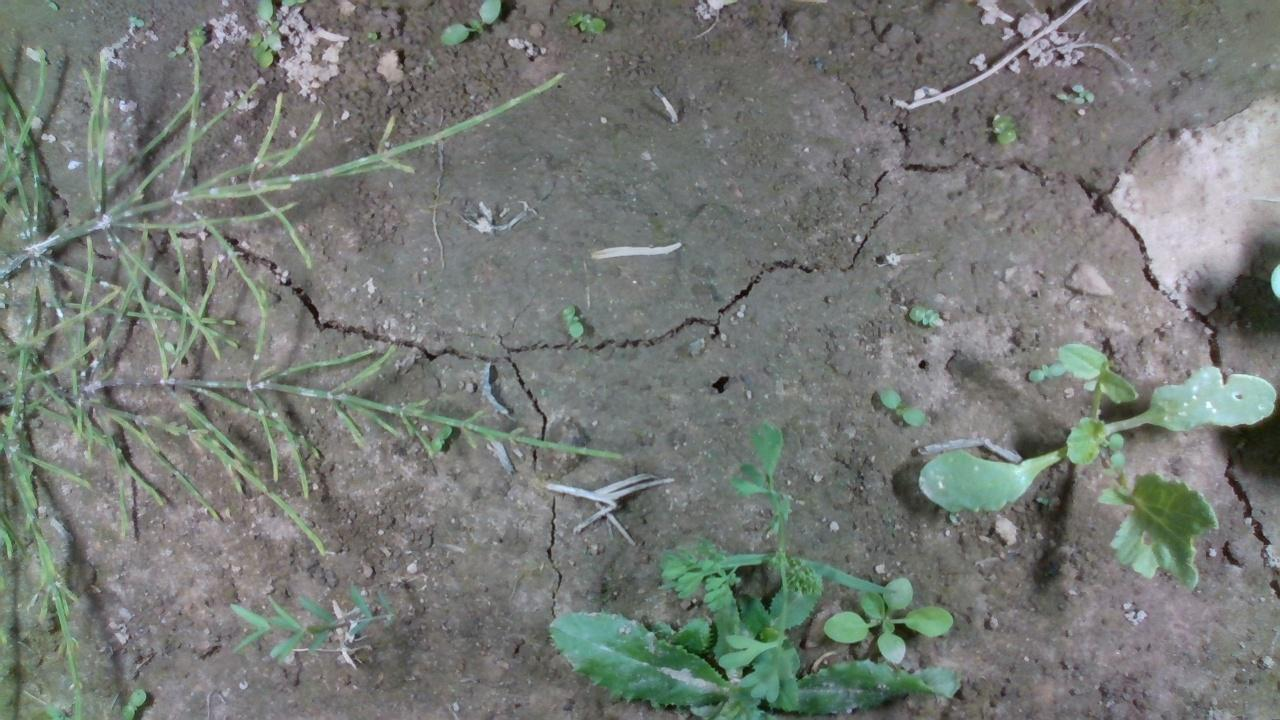weed: (876, 387, 924, 431), (551, 300, 591, 343), (567, 9, 597, 34)
